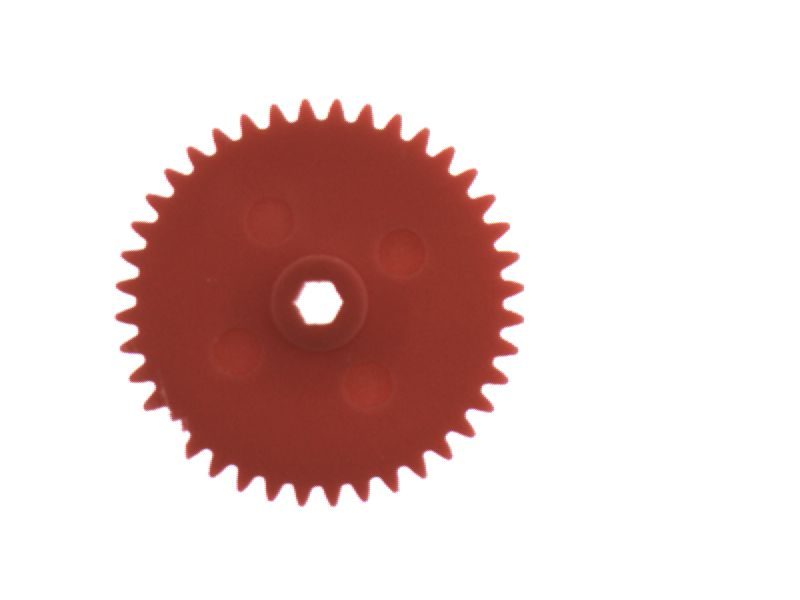defect_lack: (127, 404, 200, 457)
